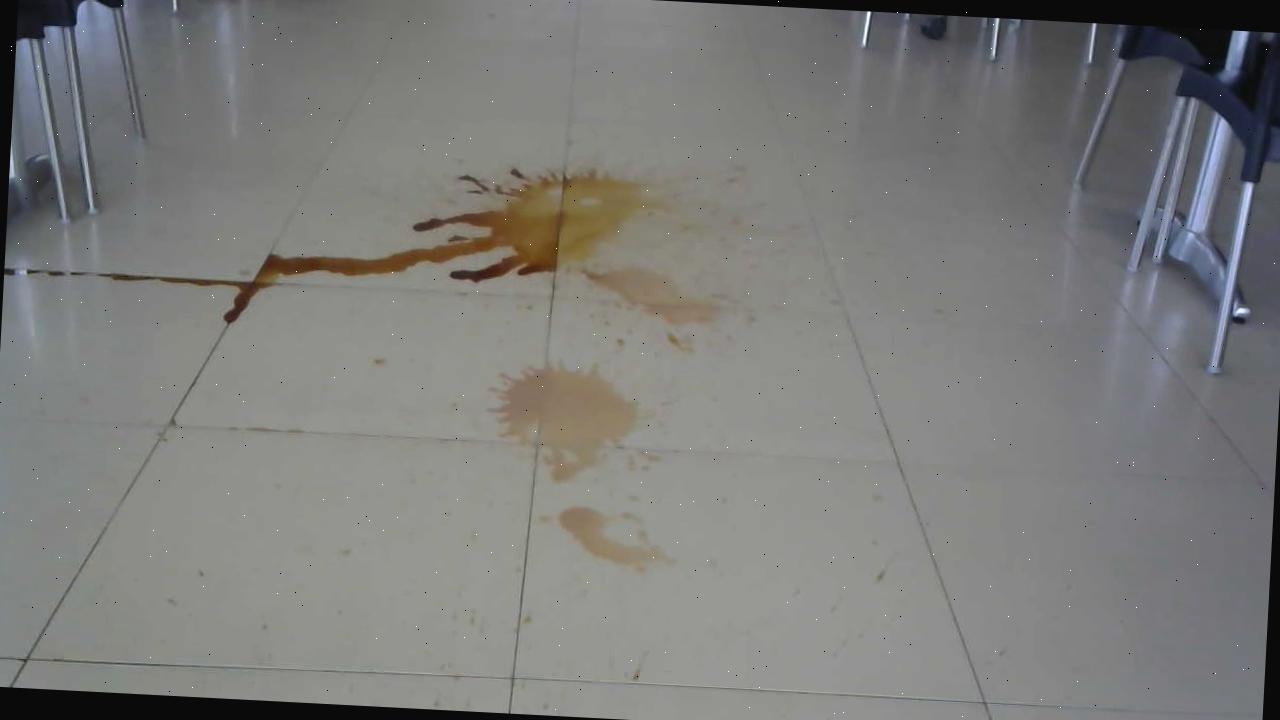dirty_floor: (213, 147, 676, 361), (476, 360, 658, 488), (576, 262, 726, 356), (542, 500, 672, 578)
